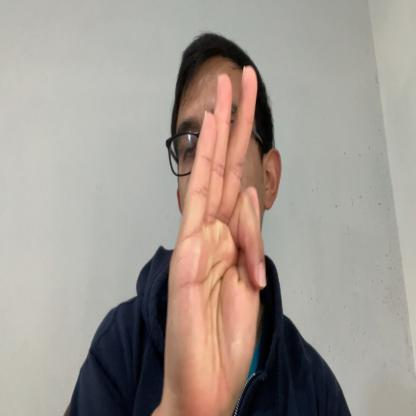F: (165, 65, 268, 402)
